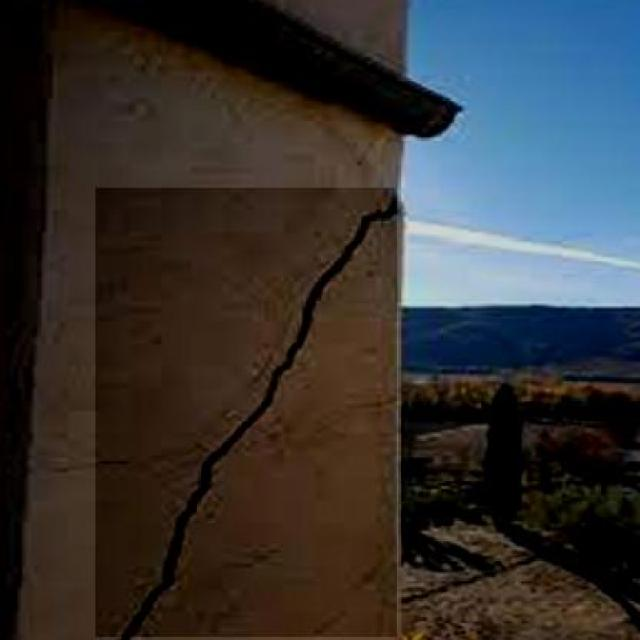Crack: (104, 190, 394, 640)
